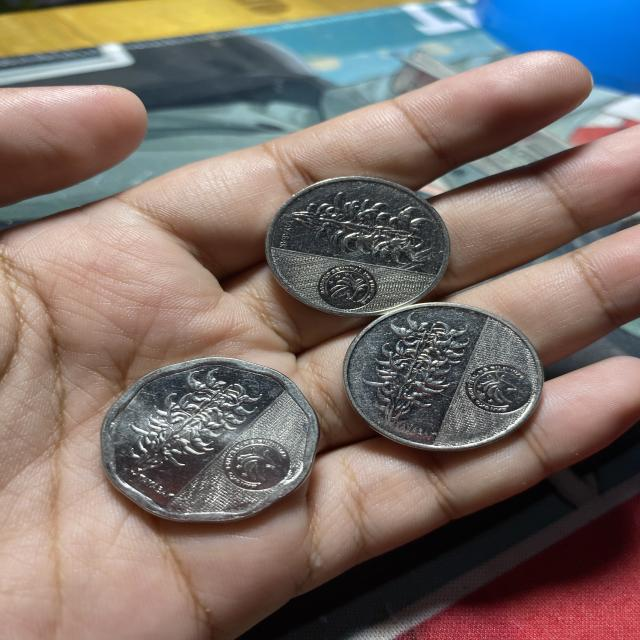5_New_Back: (124, 370, 243, 471), (366, 315, 465, 416), (301, 194, 423, 266)
